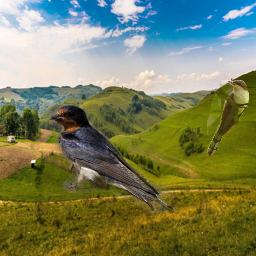Cuckoo: (207, 80, 249, 156)
Swallow: (49, 104, 179, 216)
